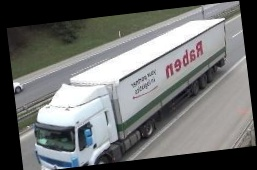truck: (22, 17, 239, 170)
